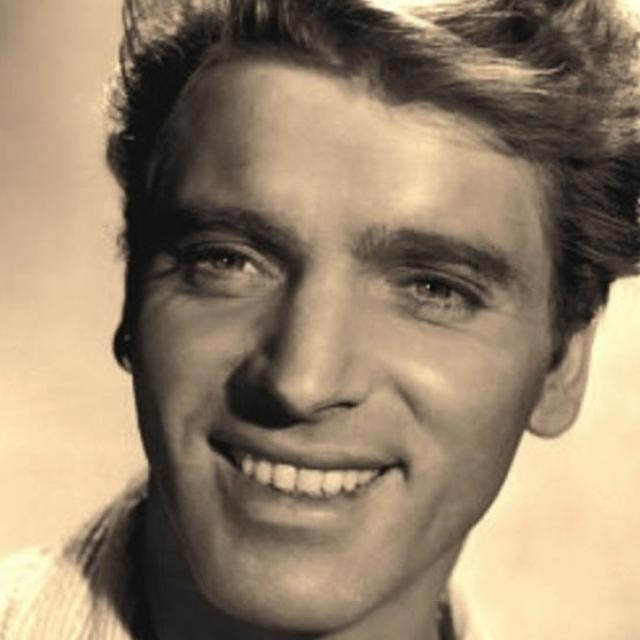Normal: (126, 62, 559, 631)
